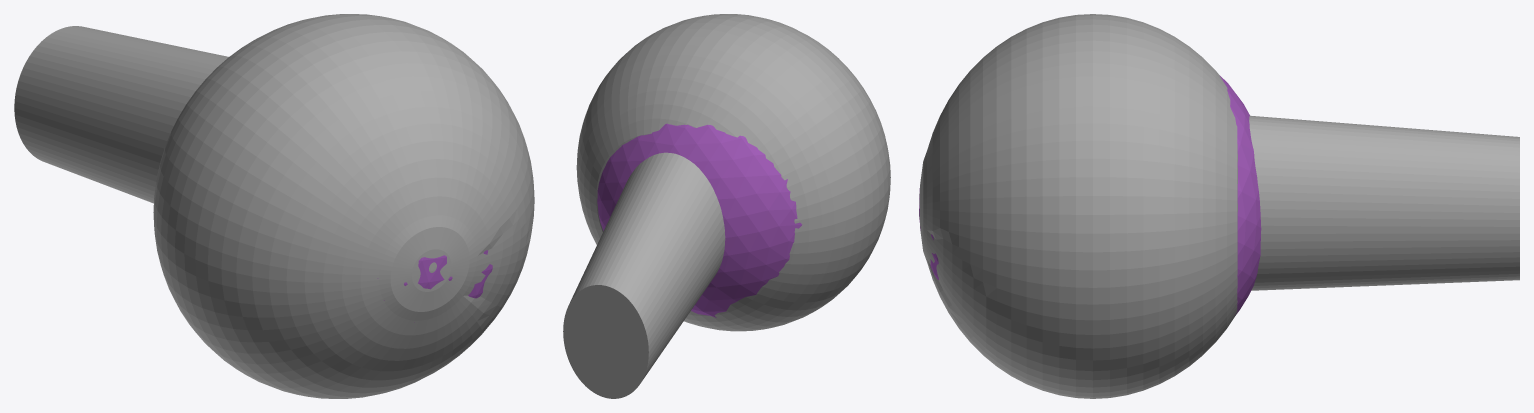
The model's file is G03_A0_ALIGNED_GT.glb.
3 renders of one model, left to right at view 1: azimuth 30°, elevation 25°; view 2: azimuth 150°, elevation 25°; view 3: azimuth 270°, elevation 25°, orthographic. The views are drawn at different scales.
Parts seen in each view (by area): view 1: Independent_GT, A0; view 2: Independent_GT, A0; view 3: Independent_GT, A0.
Part boxes in pixels (bbox=[...]): Independent_GT: bbox=[14, 14, 534, 398]; A0: bbox=[377, 250, 492, 322]; Independent_GT: bbox=[563, 14, 890, 398]; A0: bbox=[597, 123, 802, 317]; Independent_GT: bbox=[919, 14, 1519, 398]; A0: bbox=[919, 76, 1261, 314].
Size of the model in its own units: 0.02 by 0.02 by 0.0312.
